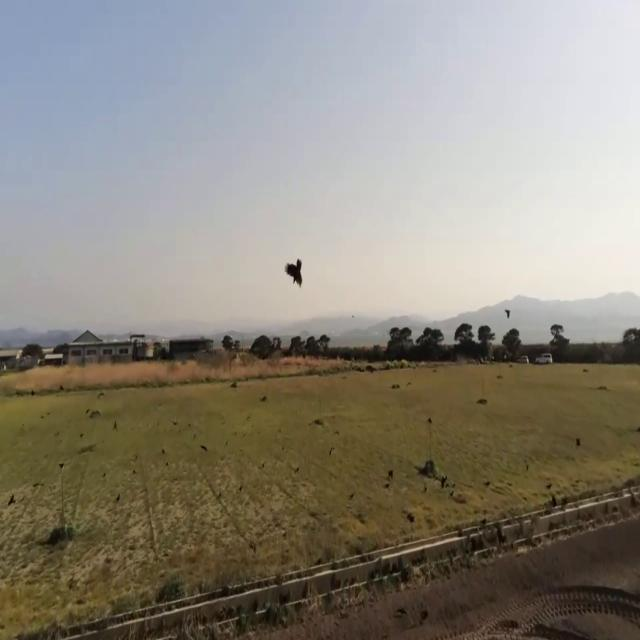bird: (284, 250, 303, 293), (440, 467, 447, 493)
